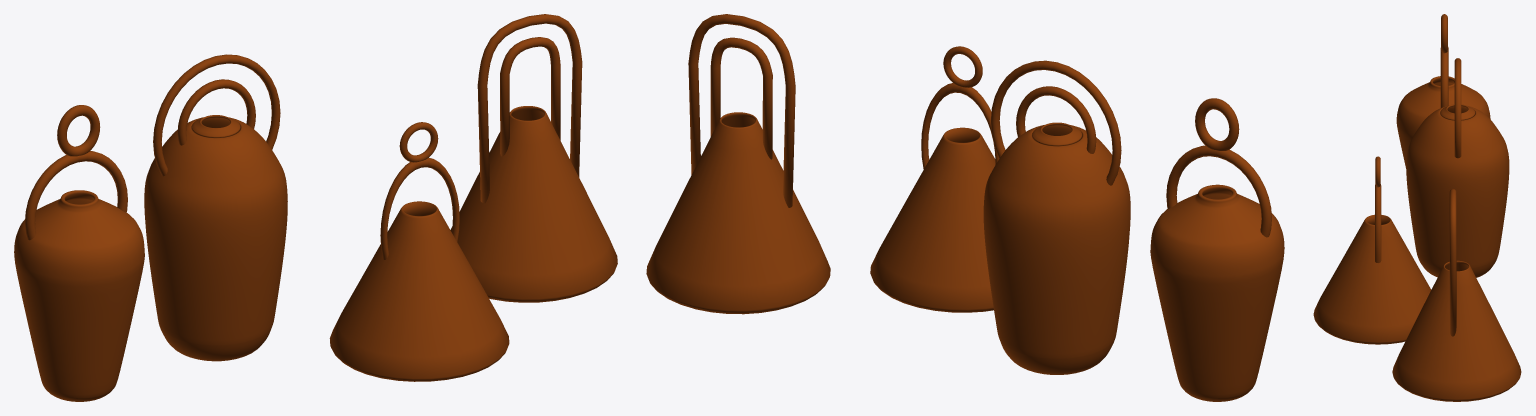
The model's file is Vases.obj.
3 renders of one model, left to right at view 1: azimuth 30°, elevation 25°; view 2: azimuth 150°, elevation 25°; view 3: azimuth 270°, elevation 25°, orthographic. The views are drawn at different scales.
Visible parts, largest first — view 1: Line002, Line004, Circle001, Line003; view 2: Line002, Line004, Circle001, Line003; view 3: Line002, Line004, Line003, Circle001.
Boxes of the visible parts, x1=… form: Line002: x1=144, y1=54, x2=287, y2=361; Line004: x1=450, y1=14, x2=617, y2=302; Circle001: x1=14, y1=105, x2=144, y2=401; Line003: x1=329, y1=122, x2=509, y2=381; Line002: x1=983, y1=60, x2=1130, y2=374; Line004: x1=646, y1=14, x2=830, y2=314; Circle001: x1=1150, y1=98, x2=1284, y2=401; Line003: x1=870, y1=46, x2=999, y2=312; Line002: x1=1406, y1=58, x2=1509, y2=277; Line004: x1=1392, y1=189, x2=1521, y2=401; Line003: x1=1313, y1=156, x2=1431, y2=344; Circle001: x1=1396, y1=14, x2=1490, y2=168.
Size of the model in its own units: 155 by 74.25 by 65.88.
